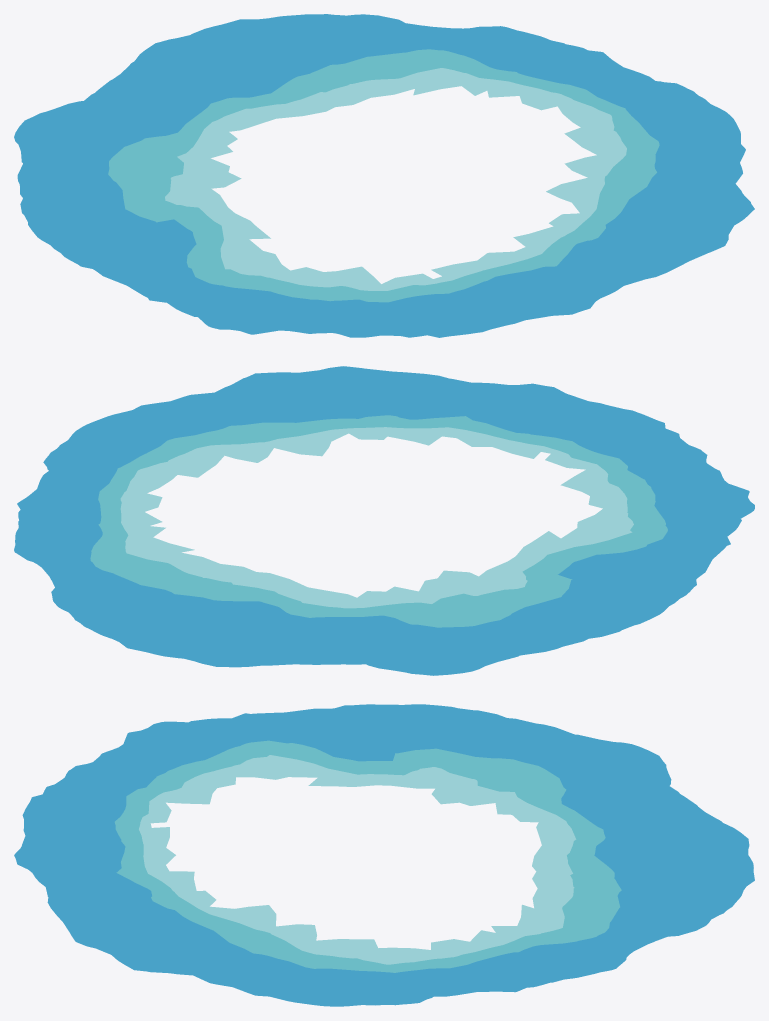
The model's file is Isl-islet4-Water.fbx.
3 views of the same model, one above another, from view 1: azimuth 30°, elevation 25°; view 2: azimuth 150°, elevation 25°; view 3: azimuth 270°, elevation 25° (orthographic). The views are drawn at different scales.
Parts seen in each view (by area): view 1: Isl-islet4-Water; view 2: Isl-islet4-Water; view 3: Isl-islet4-Water.
Boxes of the visible parts, x1,y1,x2,y2 form: Isl-islet4-Water: (14, 14, 754, 337); Isl-islet4-Water: (14, 366, 754, 675); Isl-islet4-Water: (14, 704, 754, 1006).
Bounding box in the file's own units: 35.22 × 0 × 36.46.
